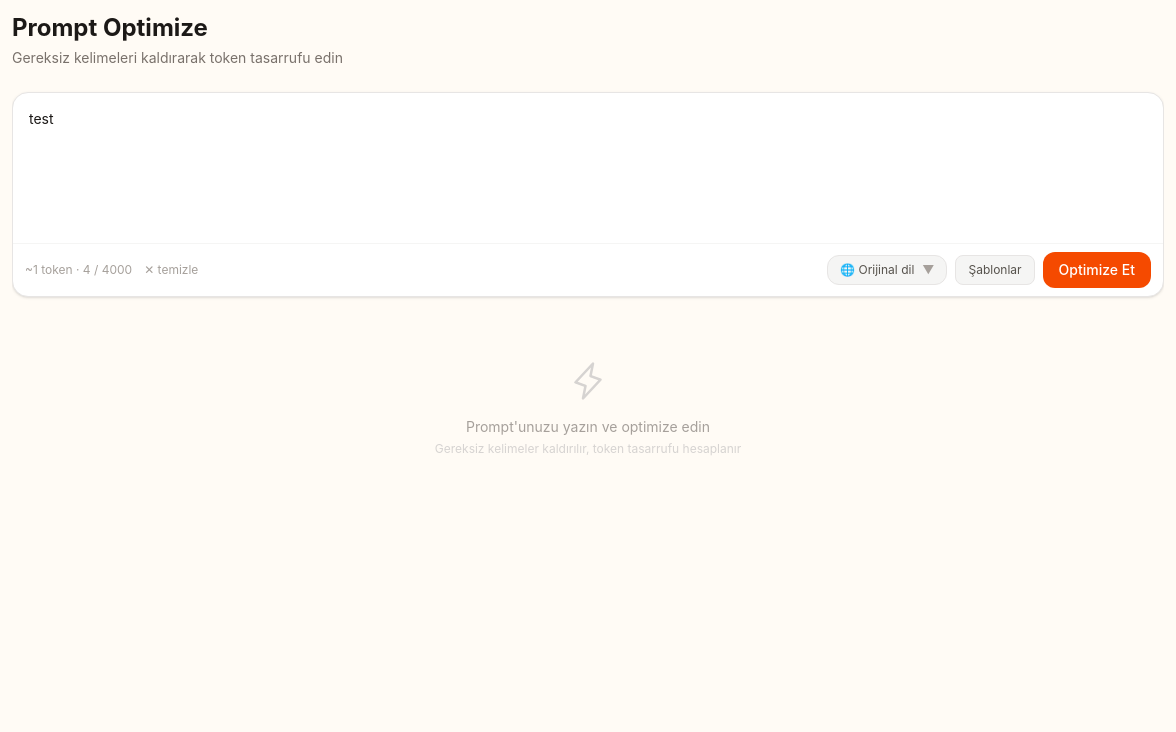
Test: Senaryo 2 — Rate limit (429) › 429 gelince hata kutusu ekranda görünmeli
Click the button "Optimize Et". click: (1097, 270)
box: [1043,252,1151,288]
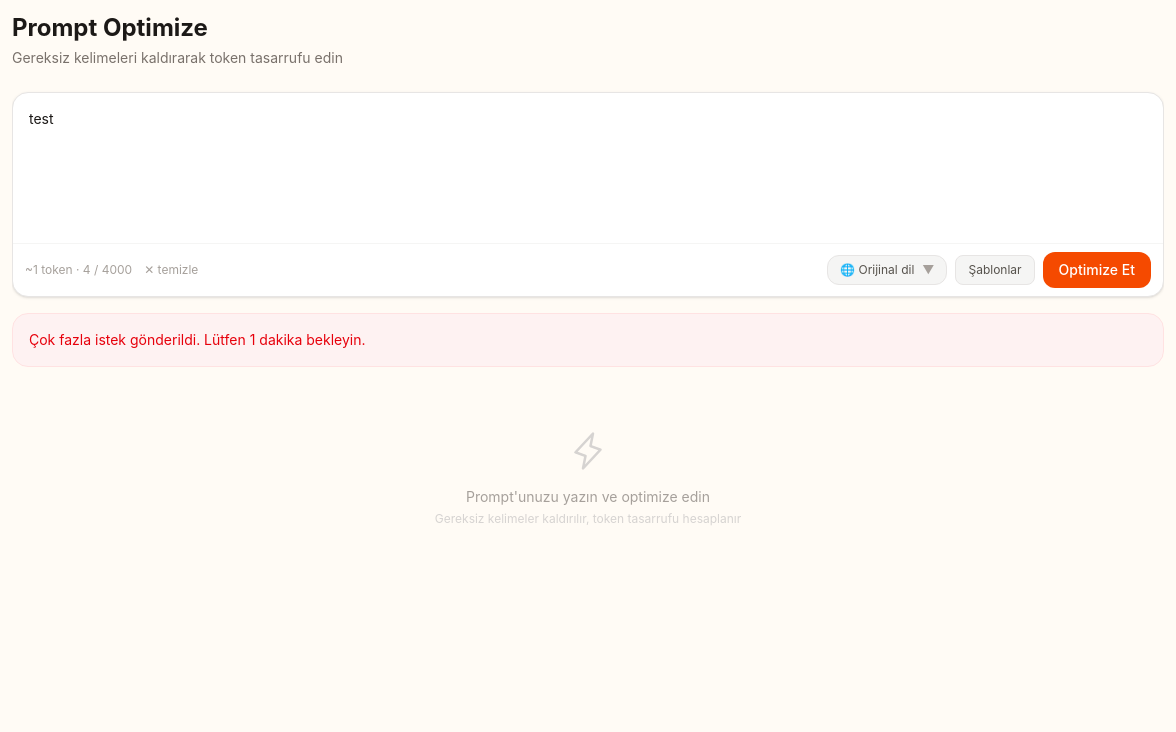
Expected: the text "Çok fazla istek gönderildi. Lütfen 1 dakika bekleyin." is shown, [29,331,366,348]
